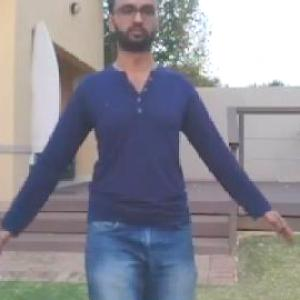land: (4, 24, 248, 299)
